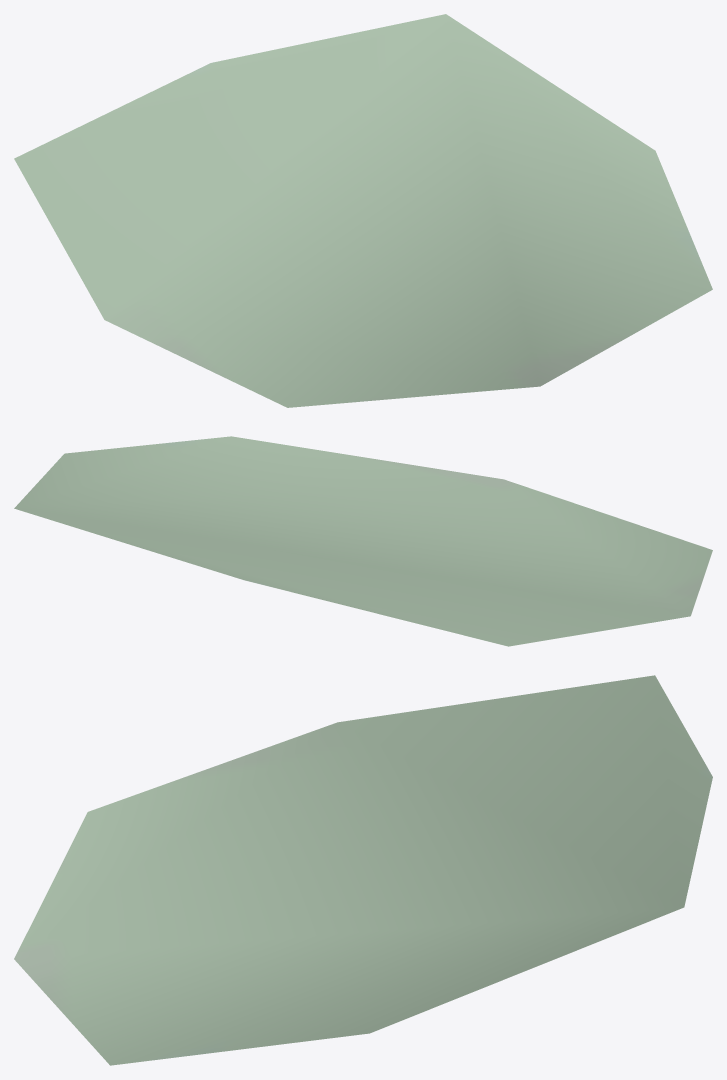
File: TROLLHOLE02_HOLECAP96.fbx
3 renders of one model, top to bottom at view 1: azimuth 30°, elevation 25°; view 2: azimuth 150°, elevation 25°; view 3: azimuth 270°, elevation 25°, orthographic. The views are drawn at different scales.
Visible parts, largest first — view 1: TROLLHOLE02_HOLECAP96; view 2: TROLLHOLE02_HOLECAP96; view 3: TROLLHOLE02_HOLECAP96.
Part boxes in pixels (bbox=[...]): TROLLHOLE02_HOLECAP96: bbox=[14, 14, 712, 407]; TROLLHOLE02_HOLECAP96: bbox=[14, 436, 712, 646]; TROLLHOLE02_HOLECAP96: bbox=[14, 675, 712, 1065].
Bounding box in the file's own units: 19849 × 4344 × 17337.
1 material, 1 textured.
